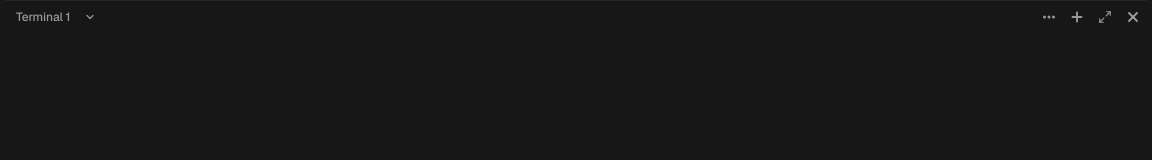
Test: TerminalPaneHeader › toggles the plus menu when New Terminal is clicked without splitting
Expected: the text "Split Right" is not shown
Click the button titled "New Terminal": point(1077, 17) x1=1064 y1=4 x2=1090 y2=30
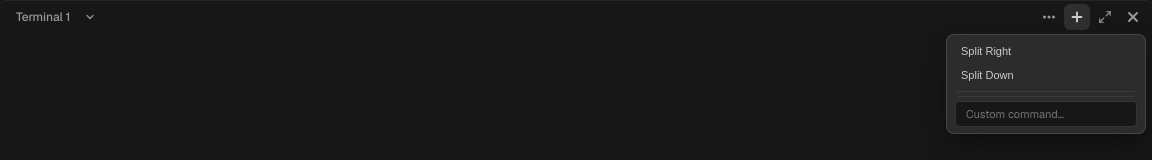
Expected: the menu item "Split Right" is shown, x1=951 y1=39 x2=1141 y2=63
Expected: the menu item "Split Down" is shown, x1=951 y1=63 x2=1141 y2=87
Click the button titled "New Terminal": point(1077, 17) x1=1064 y1=4 x2=1090 y2=30
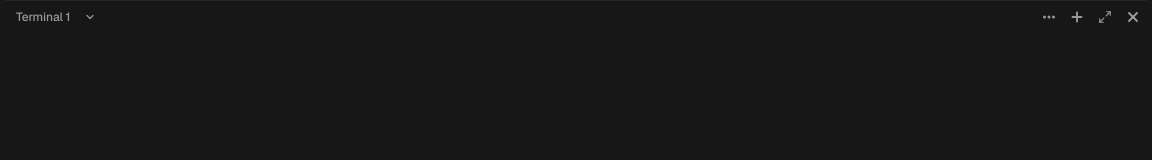
Expected: the menu item "Split Right" is gone
